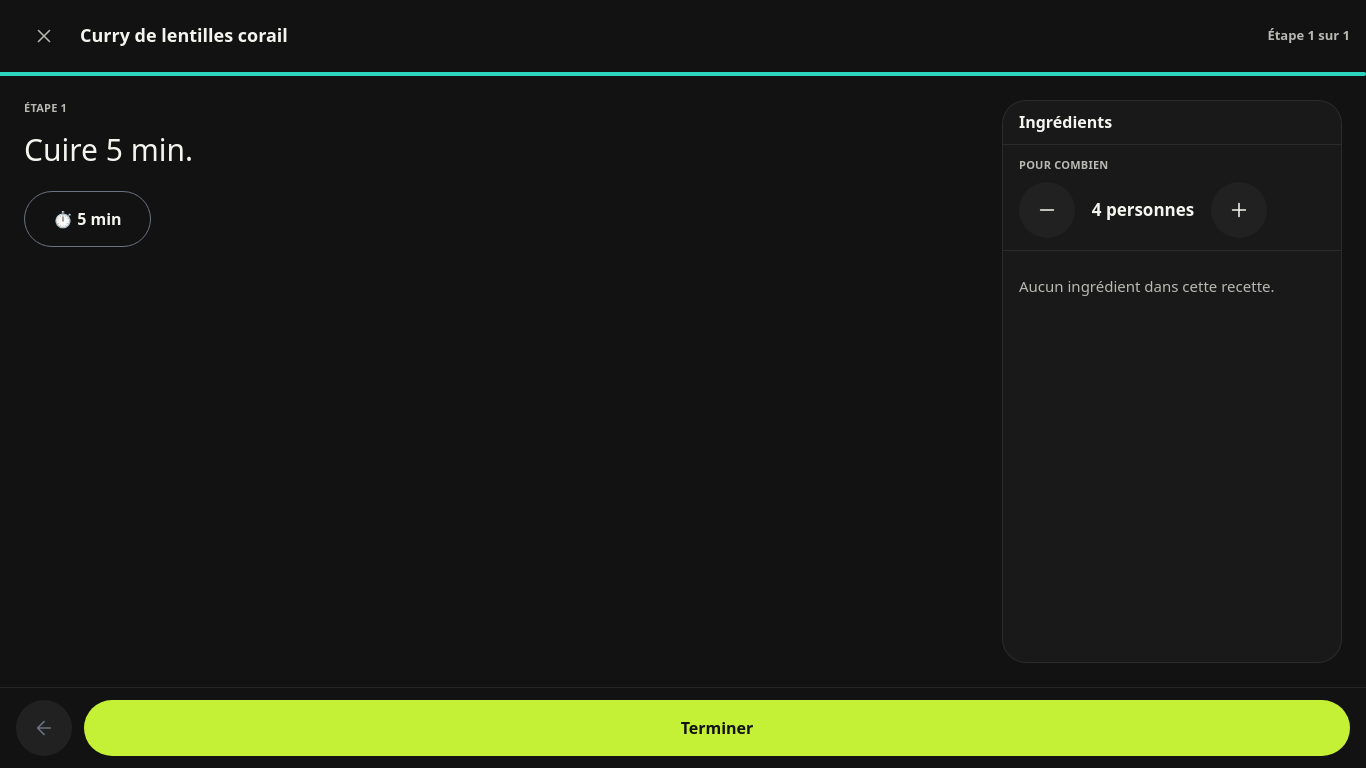
Scenario: timers in cooking mode › pauses and resumes without losing the remaining time
Click the button "⏱ 5 min": (87, 218) [24, 190, 151, 246]
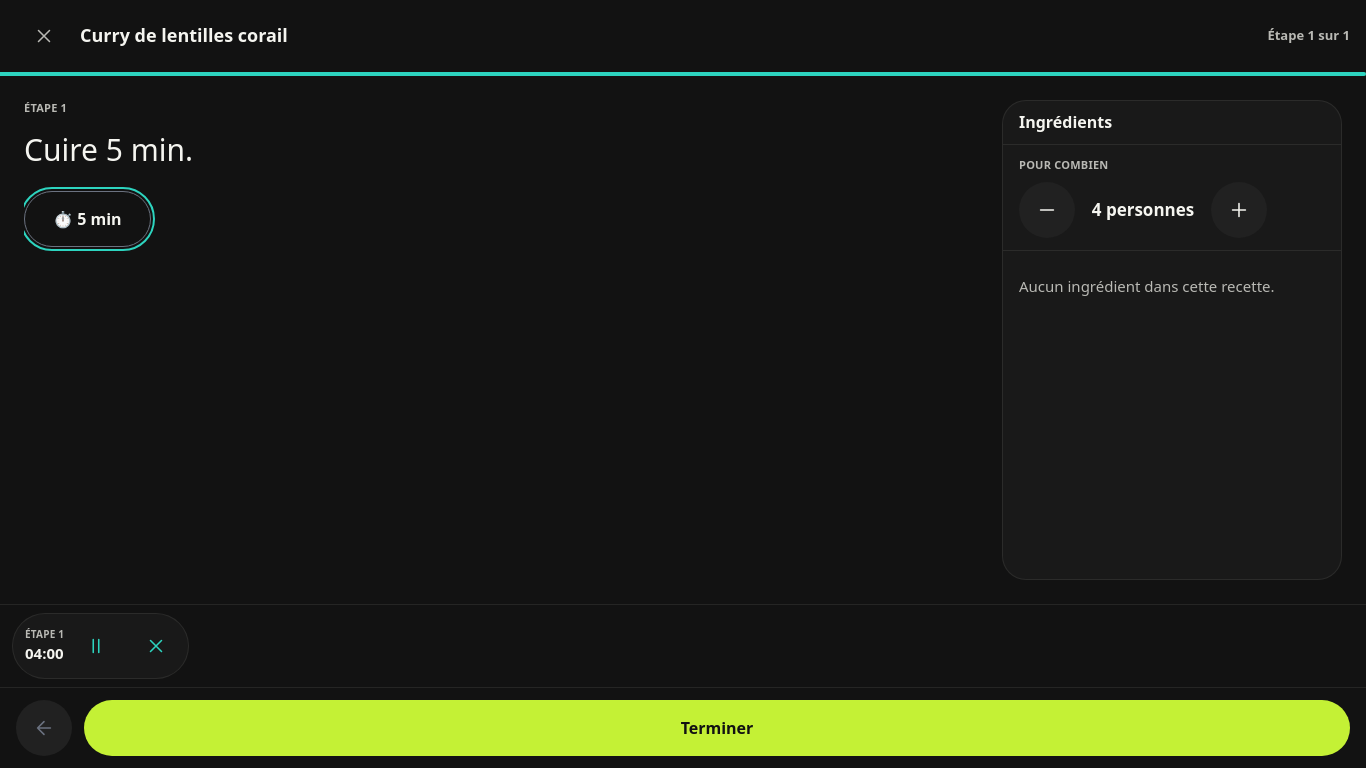
Check: the list item with test id "cook-timer" shows "04:00", box [25, 643, 64, 663]
Click the button named "Mettre en pause le minuteur de l'étape 1": (96, 646) [68, 618, 124, 674]
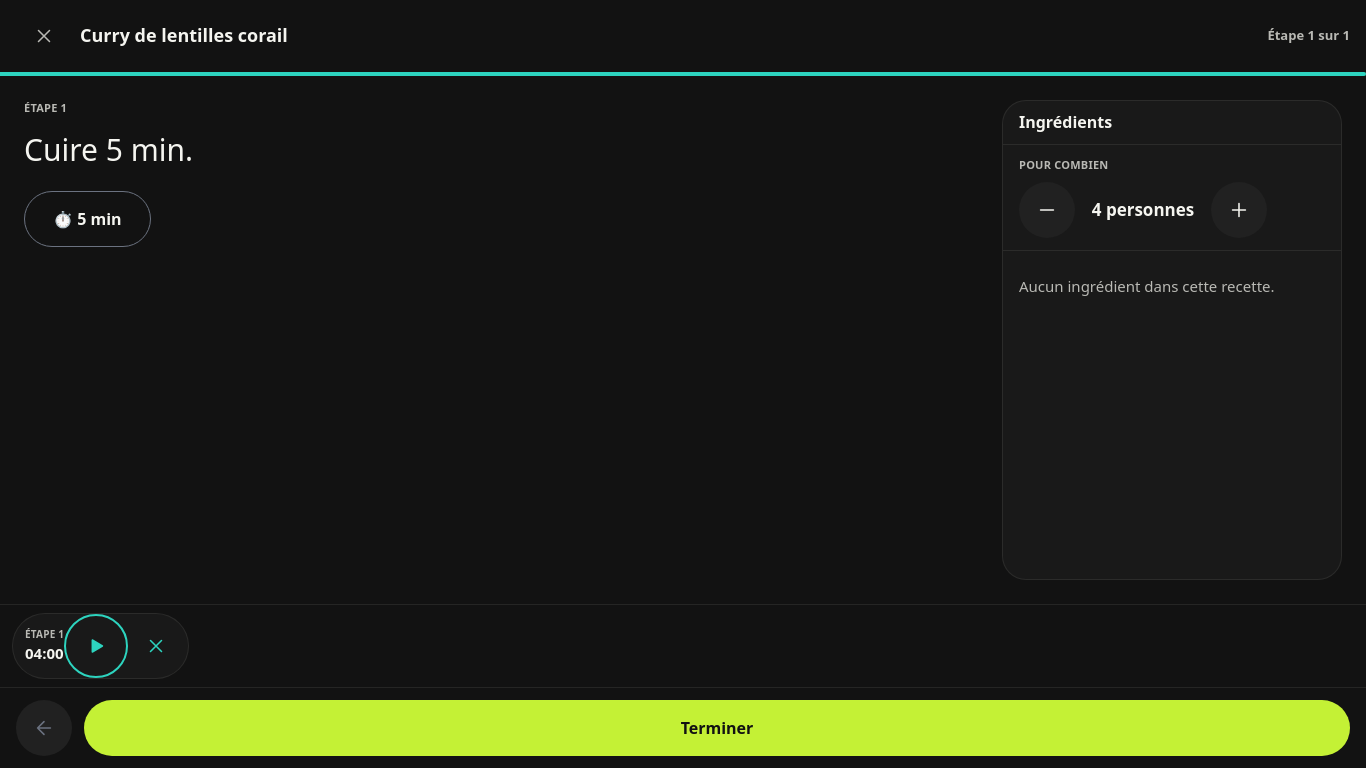
Check: the list item with test id "cook-timer" shows "04:00", box [25, 643, 64, 663]
Click the button named "Reprendre le minuteur de l'étape 1": (96, 646) [68, 618, 124, 674]
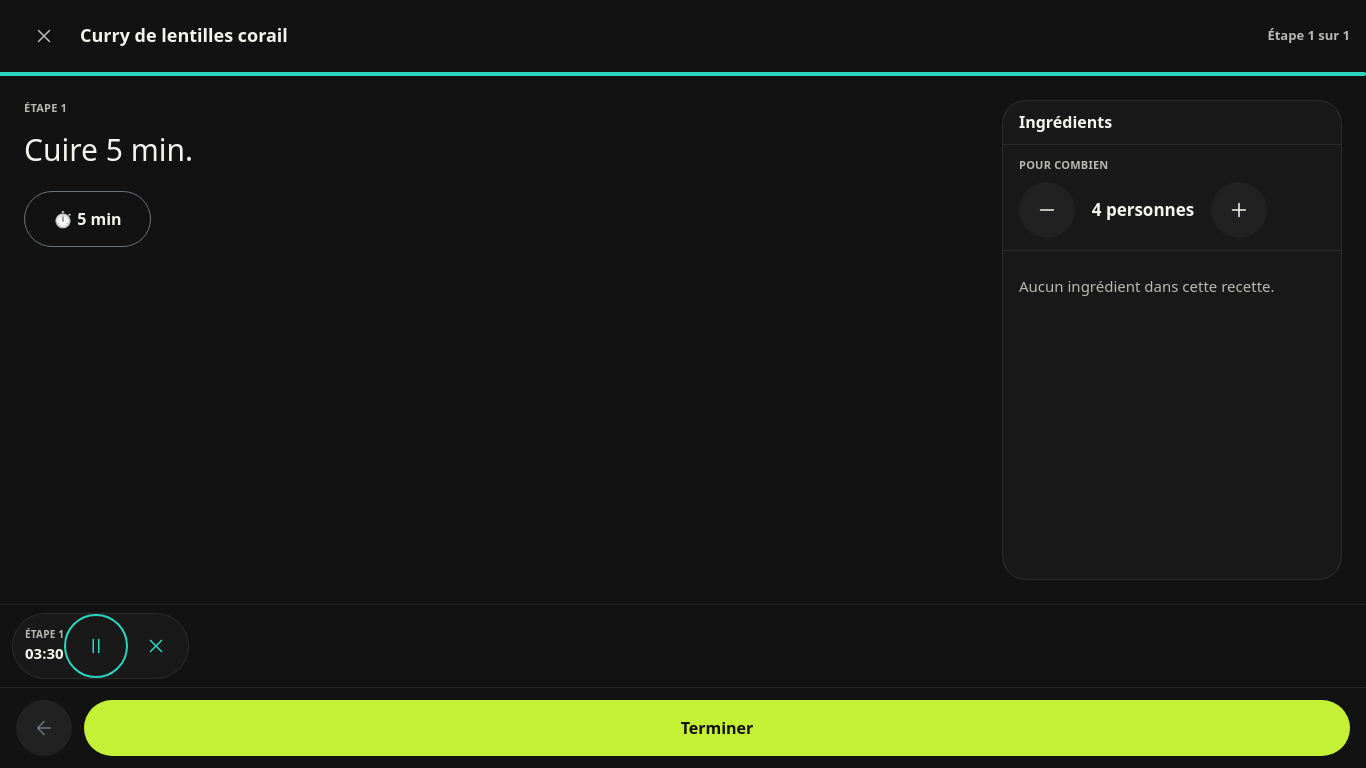
Check: the list item with test id "cook-timer" shows "03:30", box [25, 643, 64, 663]
